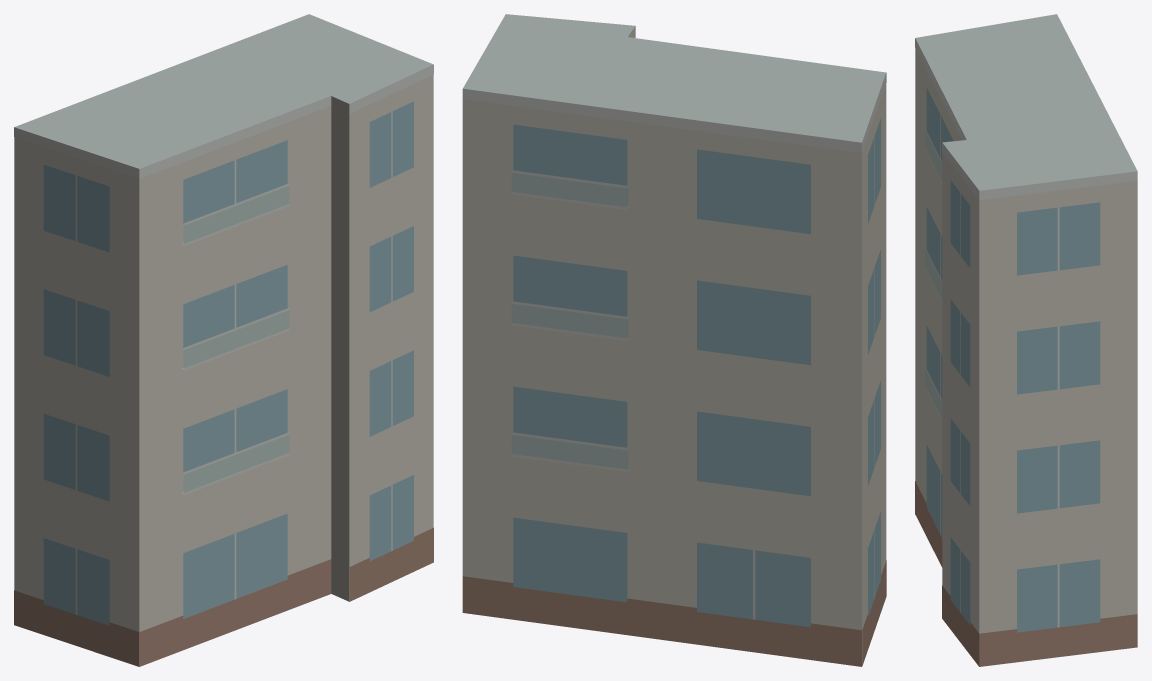
The model's file is survey-upis-32546931.glb.
3 views of the same model, side by side, from view 1: azimuth 30°, elevation 25°; view 2: azimuth 150°, elevation 25°; view 3: azimuth 270°, elevation 25° (orthographic). The views are drawn at different scales.
Visible parts, largest first — view 1: survey-upis-32546931.tmp; view 2: survey-upis-32546931.tmp; view 3: survey-upis-32546931.tmp.
Part boxes in pixels (box(x1,y1,x2,y2)): survey-upis-32546931.tmp: box(14, 14, 433, 666); survey-upis-32546931.tmp: box(462, 14, 886, 666); survey-upis-32546931.tmp: box(915, 14, 1137, 666).
Size of the model in its own units: 9.73 by 12.2 by 5.18.
